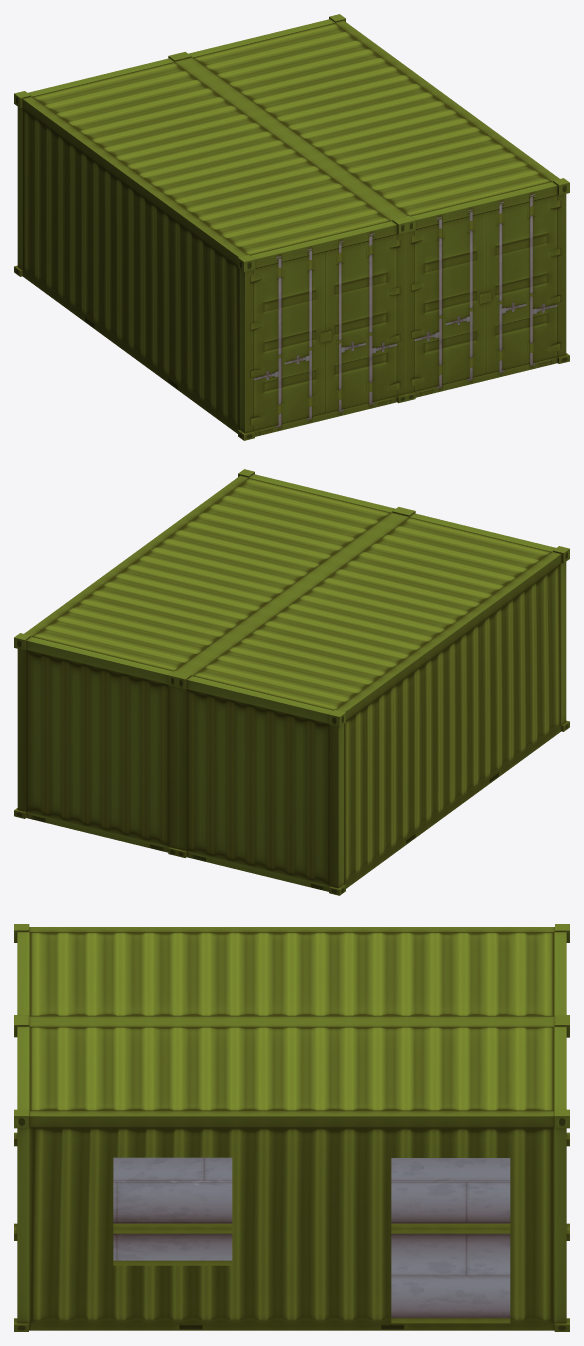
The model's file is Container01_5.FBX.
3 views of the same model, one above another, from view 1: azimuth 30°, elevation 25°; view 2: azimuth 150°, elevation 25°; view 3: azimuth 270°, elevation 25° (orthographic). The views are drawn at different scales.
Visible parts, largest first — view 1: Container01_5; view 2: Container01_5; view 3: Container01_5.
Part boxes in pixels (x1,y1,x2,y2): Container01_5: (14,14,569,440); Container01_5: (14,469,569,895); Container01_5: (14,924,569,1331).
Size of what is drawn, in the model's own units: 5.72 by 3 by 7.
